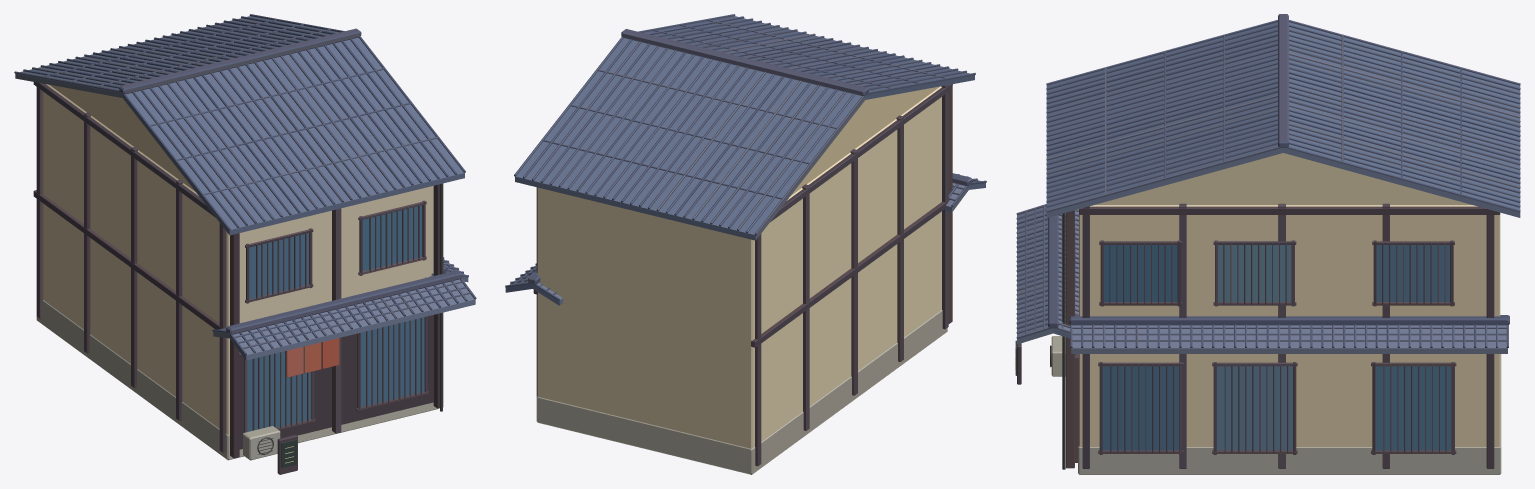
Rendered from ART_CornerShop.glb.
The picture shows the model from 3 angles, left to right: view 1: azimuth 30°, elevation 25°; view 2: azimuth 150°, elevation 25°; view 3: azimuth 270°, elevation 25°; orthographic projection. The views are drawn at different scales.
Parts seen in each view (by area): view 1: ART_CornerShop; view 2: ART_CornerShop; view 3: ART_CornerShop.
Part boxes in pixels (x1,y1,x2,y2): ART_CornerShop: (14,14,476,474); ART_CornerShop: (505,14,986,474); ART_CornerShop: (1015,14,1520,474).
Size of the model in its own units: 6.47 by 7.59 by 10.19.
